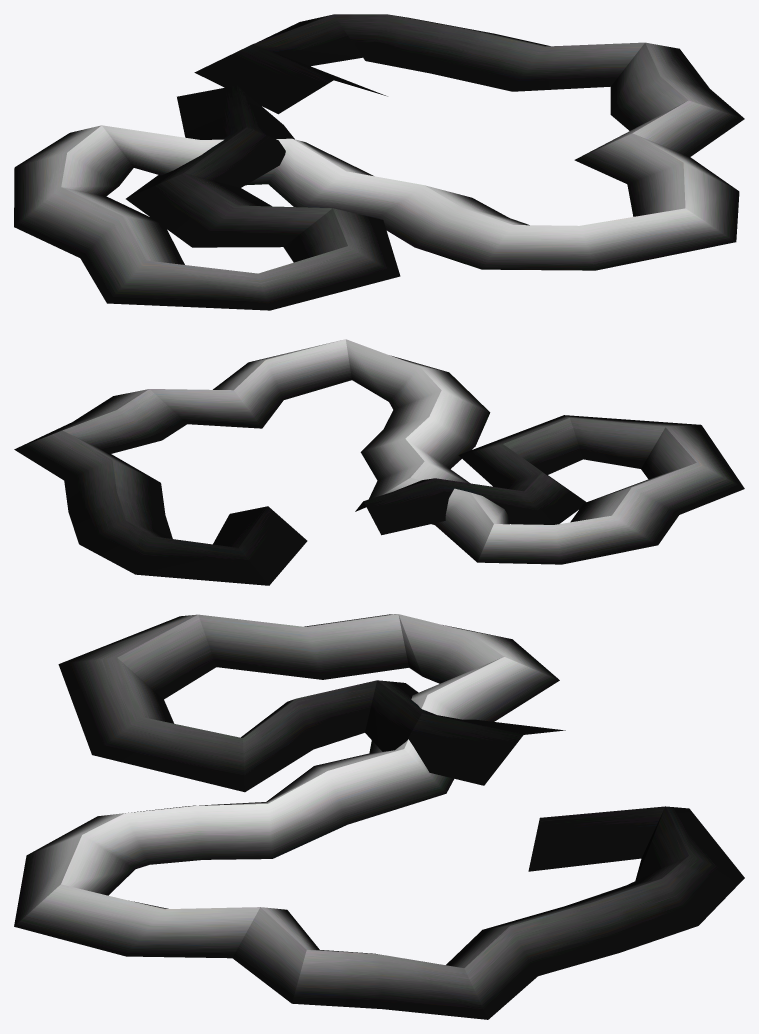
File: vfx_kurp_0874.dae
3 views of the same model, one above another, from view 1: azimuth 30°, elevation 25°; view 2: azimuth 150°, elevation 25°; view 3: azimuth 270°, elevation 25° (orthographic). The views are drawn at different scales.
Visible parts, largest first — view 1: vfx_kurp_0874; view 2: vfx_kurp_0874; view 3: vfx_kurp_0874.
Boxes of the visible parts, left/top/right/bottom form: vfx_kurp_0874: left=14, top=14, right=744, bottom=310; vfx_kurp_0874: left=14, top=339, right=744, bottom=585; vfx_kurp_0874: left=14, top=614, right=744, bottom=1019.
Size of the model in its own units: 10.49 by 8.58 by 0.8182.
1 material, 1 textured.
